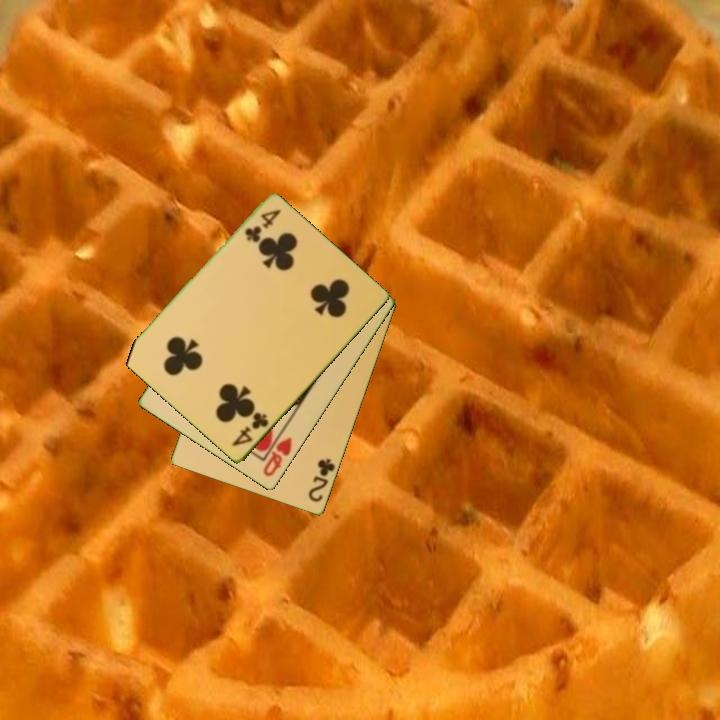2c: (305, 455, 338, 506)
4c: (229, 409, 272, 450), (241, 206, 284, 245)
Qh: (259, 427, 295, 480)
